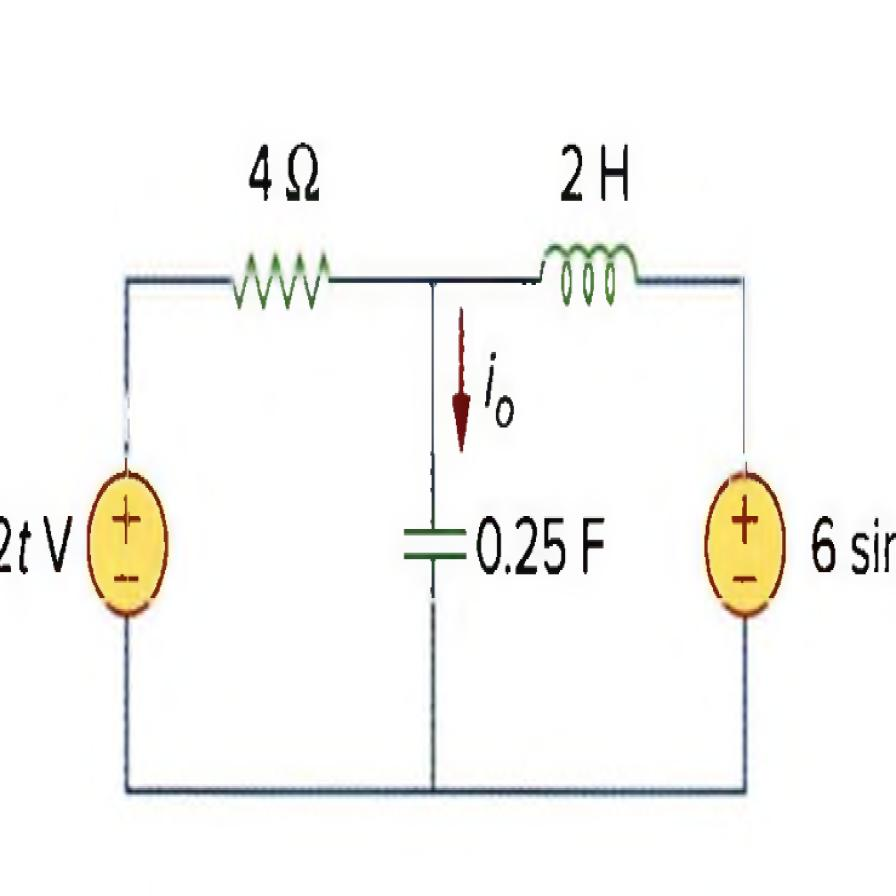C2: (392, 484, 470, 599)
L1: (526, 225, 649, 319)
R1: (216, 234, 348, 326)
V1: (705, 468, 784, 622), (88, 466, 168, 618)
